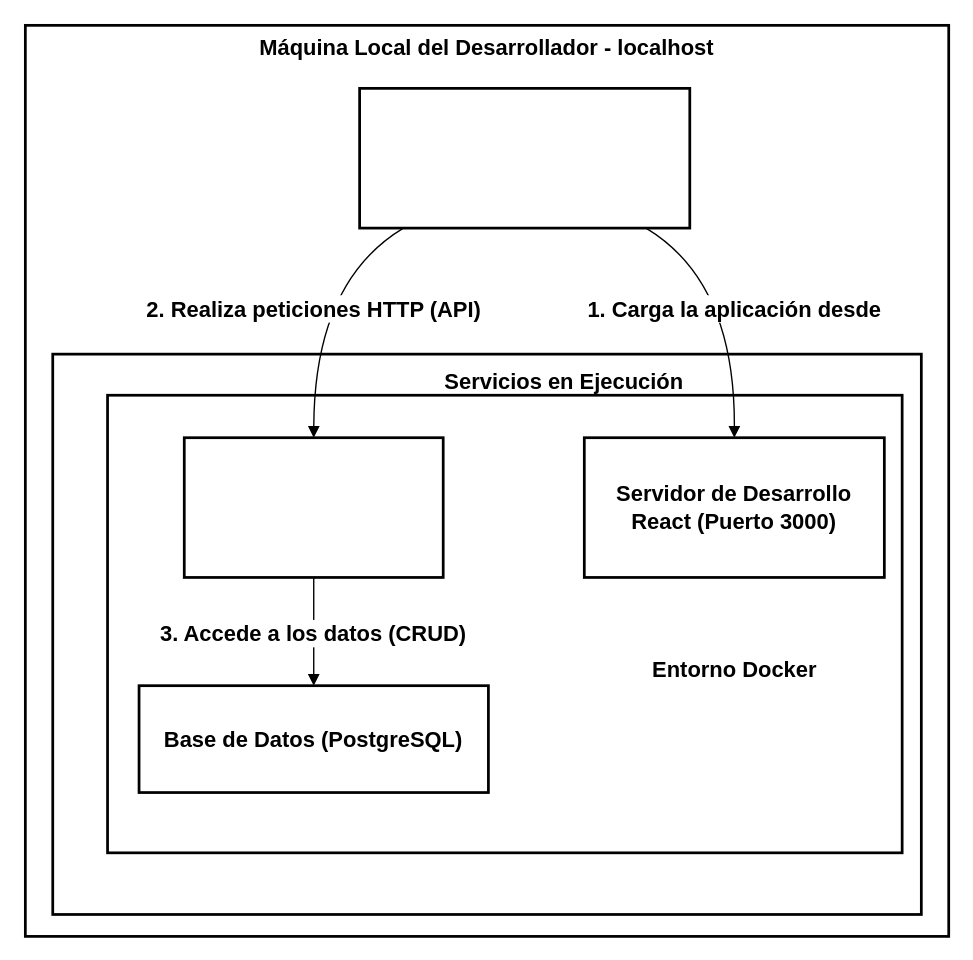
Some shapes in this 973 by 960 pixel diagram are drawn without their labels. The shapes that lost their labels are listed below. From the top down, each one's box as (x1, y1, x2, y2) in pixels, then its label:
(358, 86, 690, 229): Navegador Web (Ejecuta Frontend React)
(182, 436, 444, 578): Backend (FastAPI) Puerto 8000
